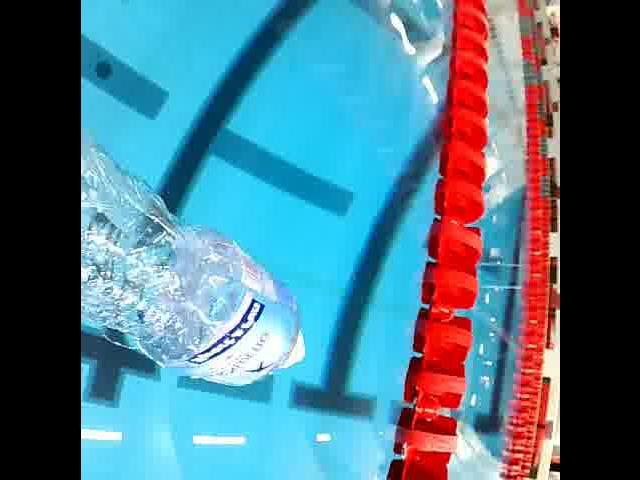Bottle: (80, 138, 309, 393)
